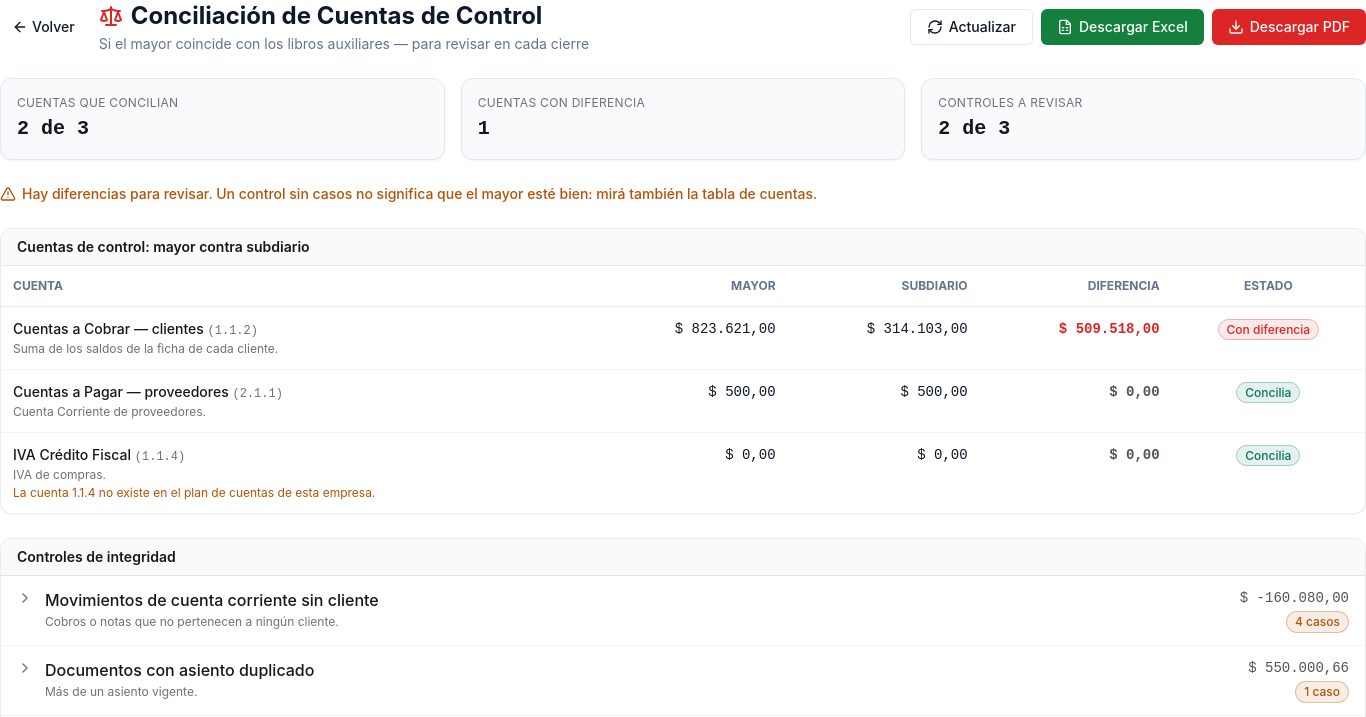
Test: ReporteConciliacionControl › un control con casos se abre y muestra el detalle; uno sin casos no se abre
Check: the text "Cuentas de control: mayor contra subdiario" is shown, box [1,229,1365,266]
Check: the text "4 casos" is shown, box [1286,611,1349,633]
Click the 5th button: (212, 600) [1,576,1365,645]
(page scrolled)
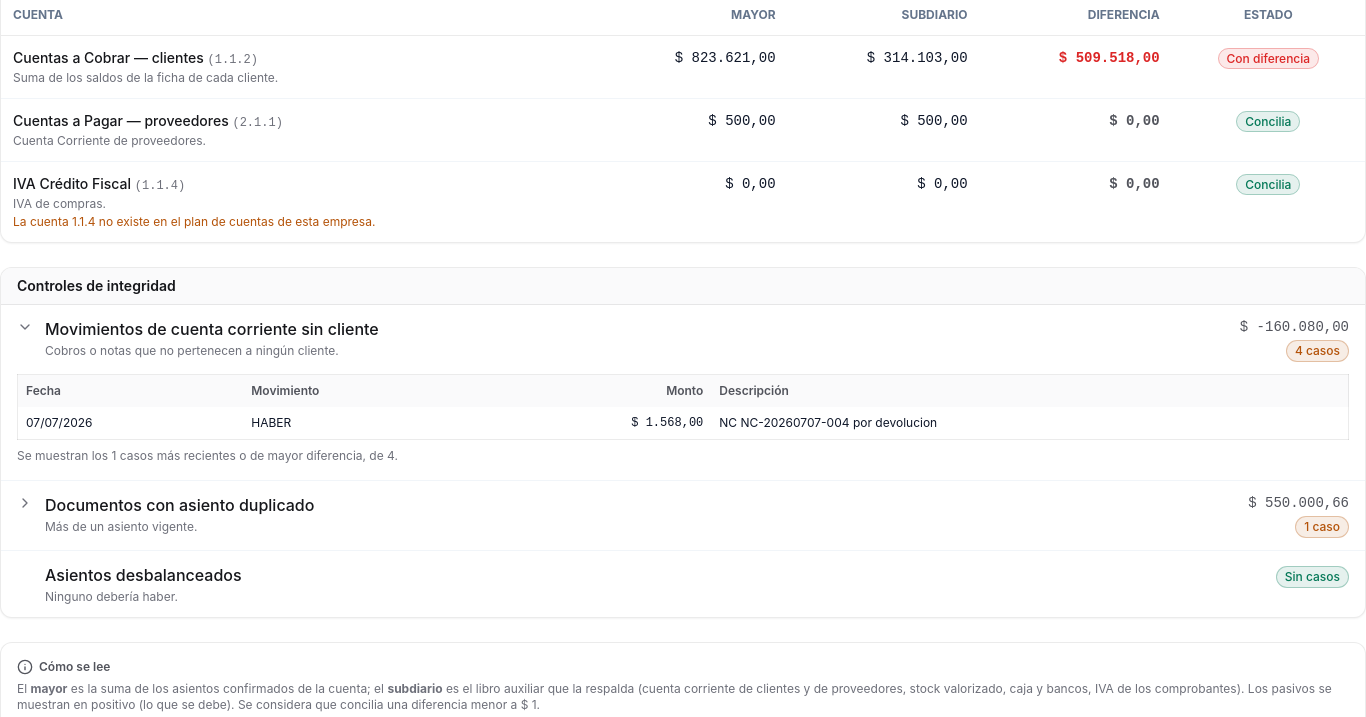
Check: the text "Sin casos" is shown, box [1276,566,1349,588]
Check: the text "NC NC-20260707-004 por devolucion" is shown, box [711,407,1348,440]
Check: the text "07/07/2026" is shown, box [18,407,243,440]
